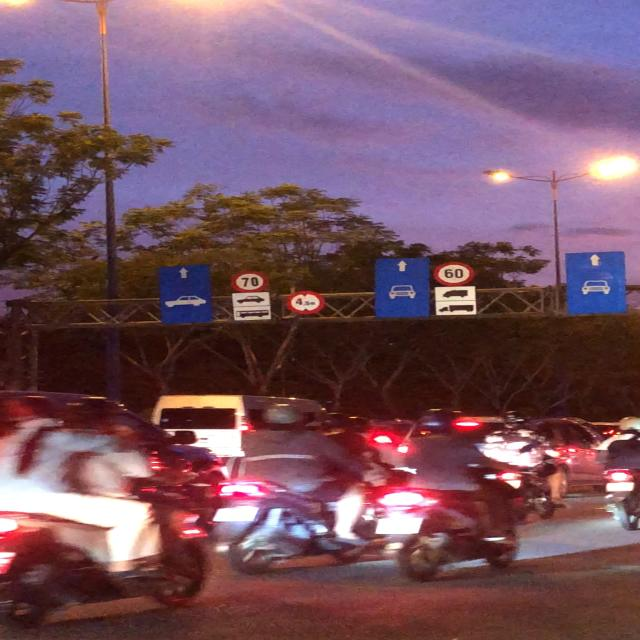Bien bao han che chieu cao: (285, 289, 329, 318)
Bien bao toc do toi da cho phep: (423, 258, 475, 288), (229, 269, 272, 294)
